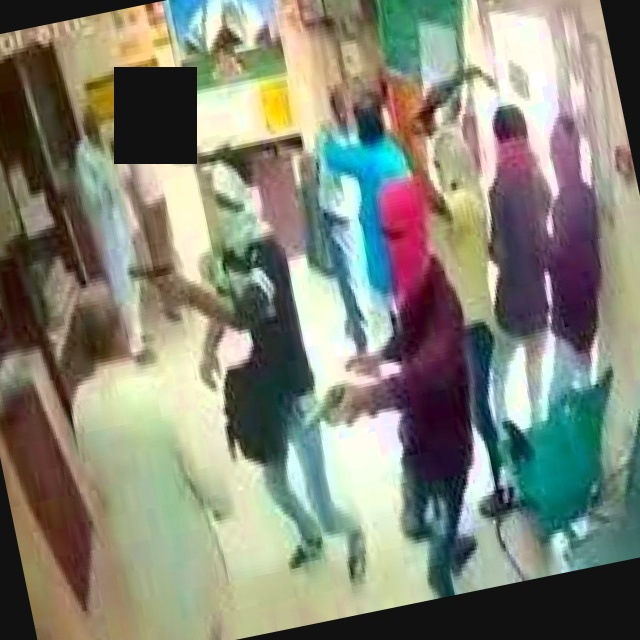gun: (291, 377, 366, 451), (119, 246, 191, 315)
